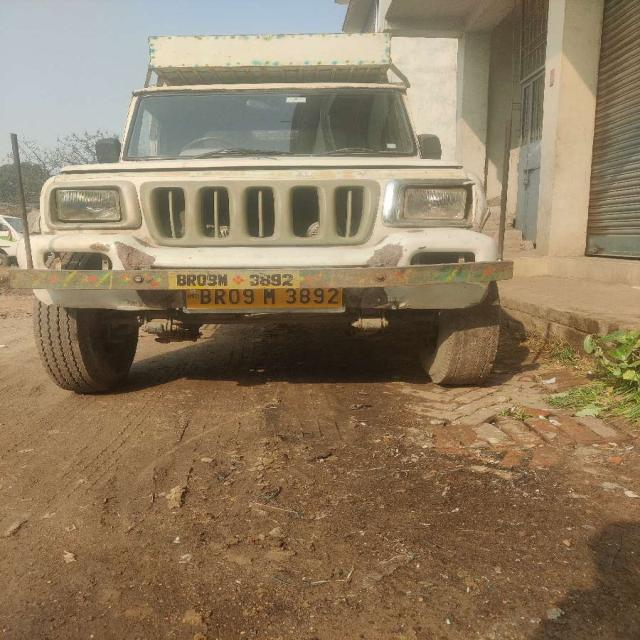light_vehicle: (9, 77, 512, 318)
